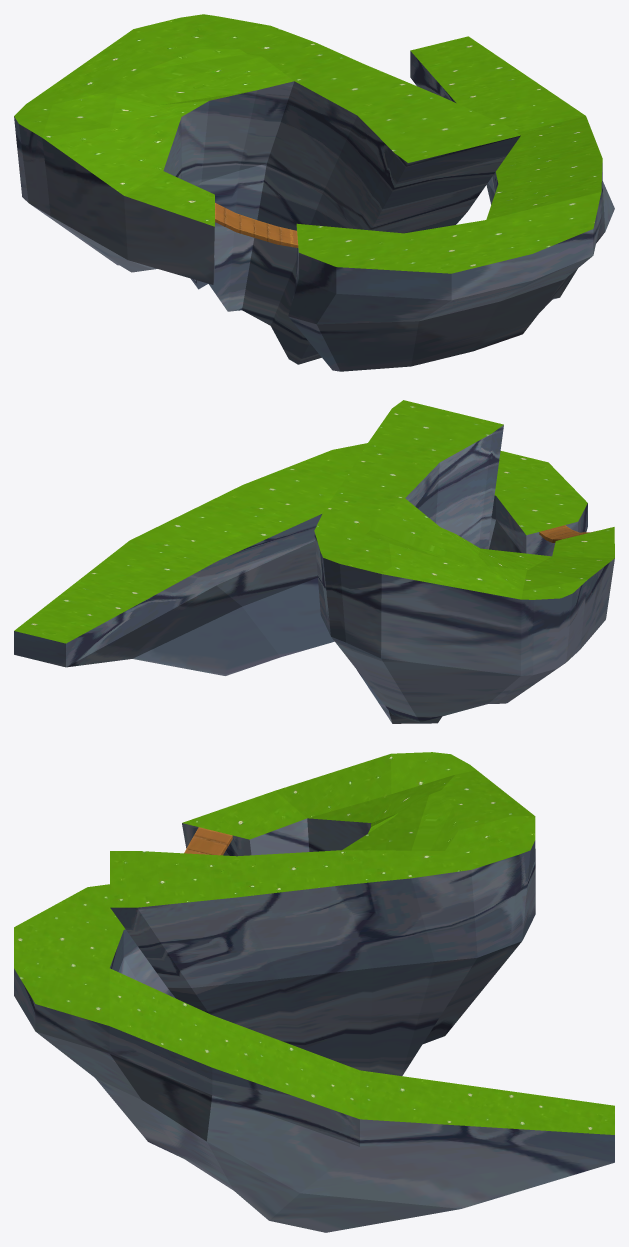
File: isla rara.fbx
The picture shows the model from 3 angles, top to bottom: view 1: azimuth 30°, elevation 25°; view 2: azimuth 150°, elevation 25°; view 3: azimuth 270°, elevation 25°; orthographic projection. The views are drawn at different scales.
Visible parts, largest first — view 1: Cube.002; view 2: Cube.002; view 3: Cube.002.
Part boxes in pixels (x1=…): Cube.002: x1=14, y1=14, x2=614, y2=371; Cube.002: x1=14, y1=400, x2=614, y2=723; Cube.002: x1=14, y1=752, x2=614, y2=1232.
Bounding box in the file's own units: 5371 × 2445 × 5035.
3 materials, 3 textured.
